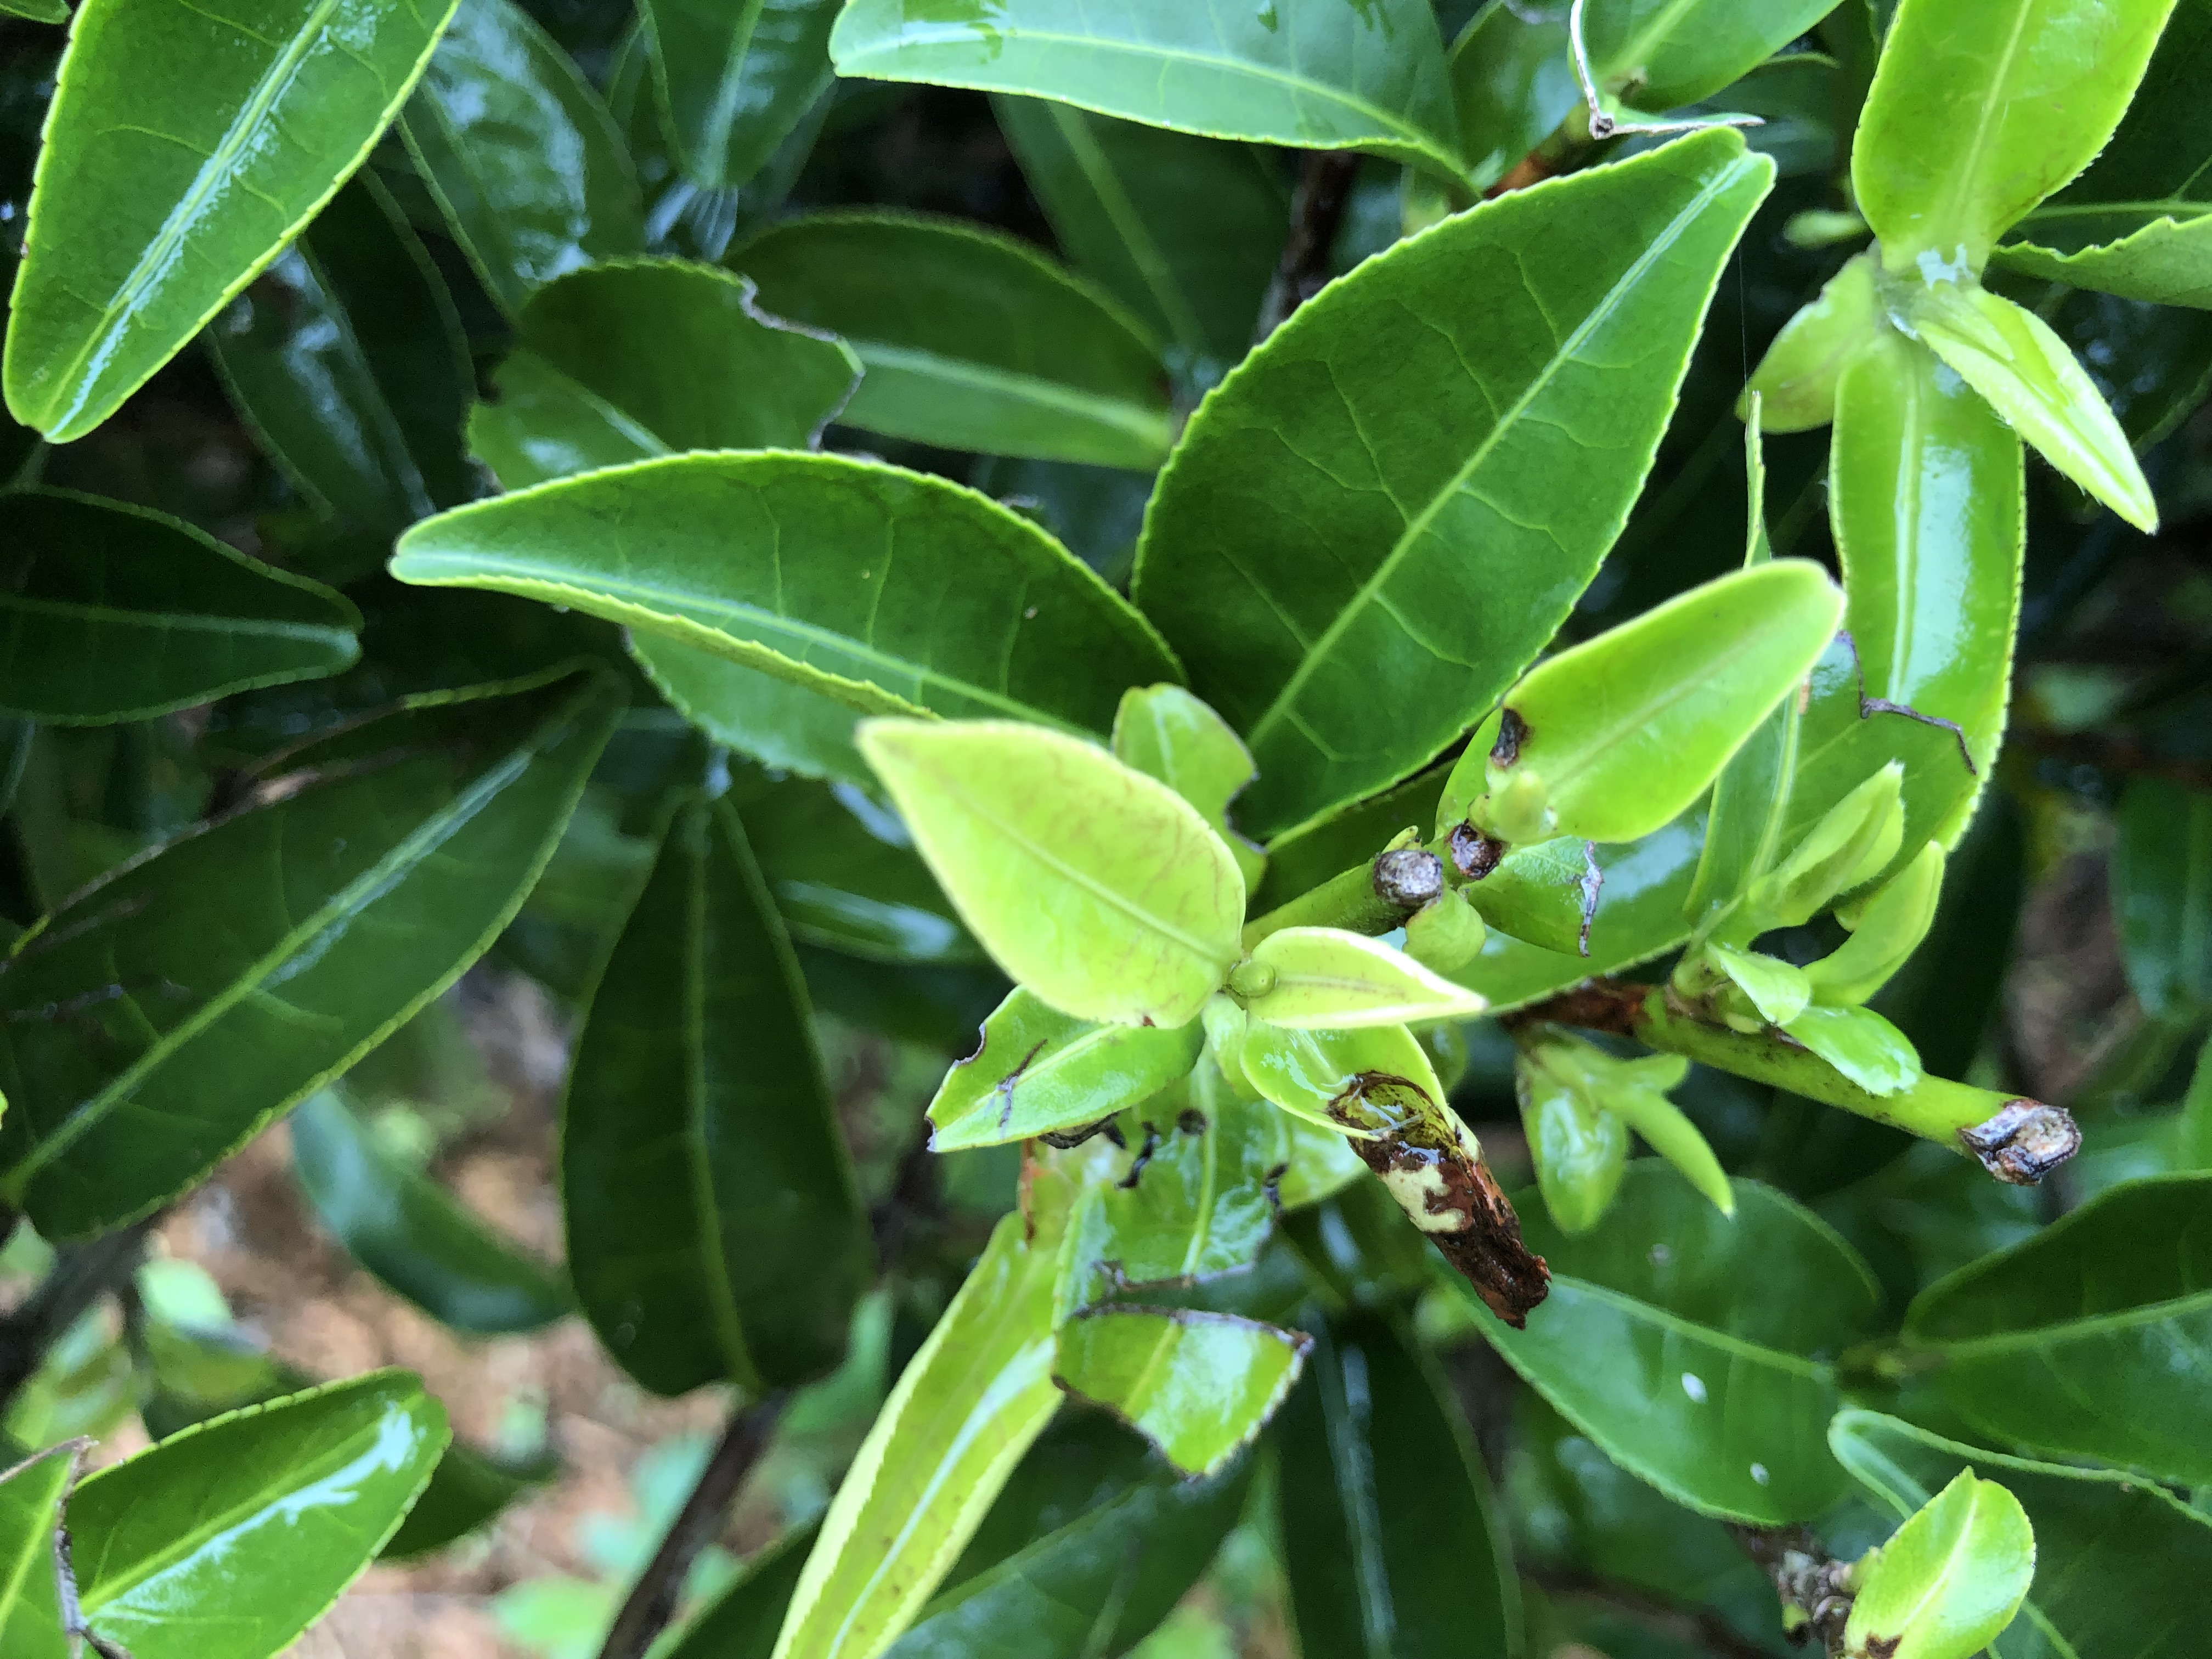formosa: (855, 708, 1261, 1028)
mosquito_late: (1446, 554, 1839, 857), (1261, 1035, 1569, 1317)
other: (1902, 1075, 2081, 1183)
